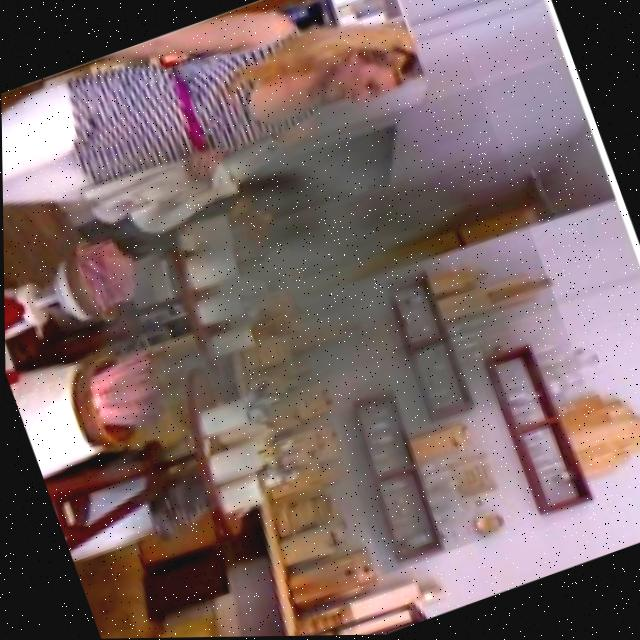Smoke: (2, 0, 622, 639)
